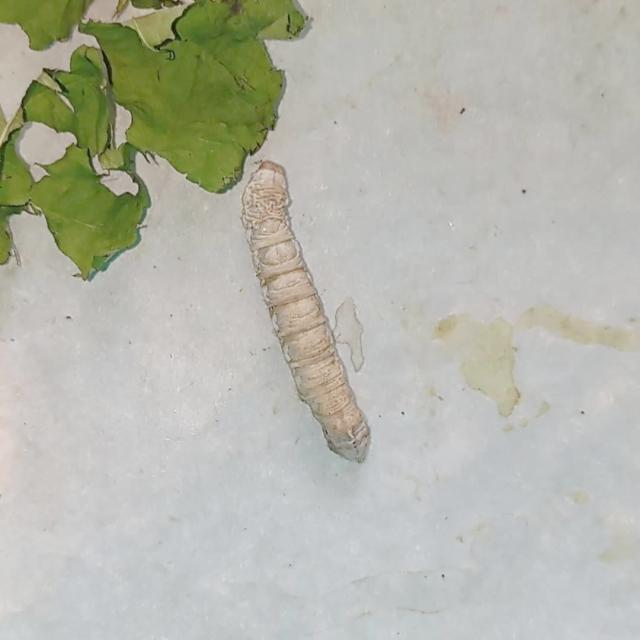Grasserie: (232, 135, 385, 471)
